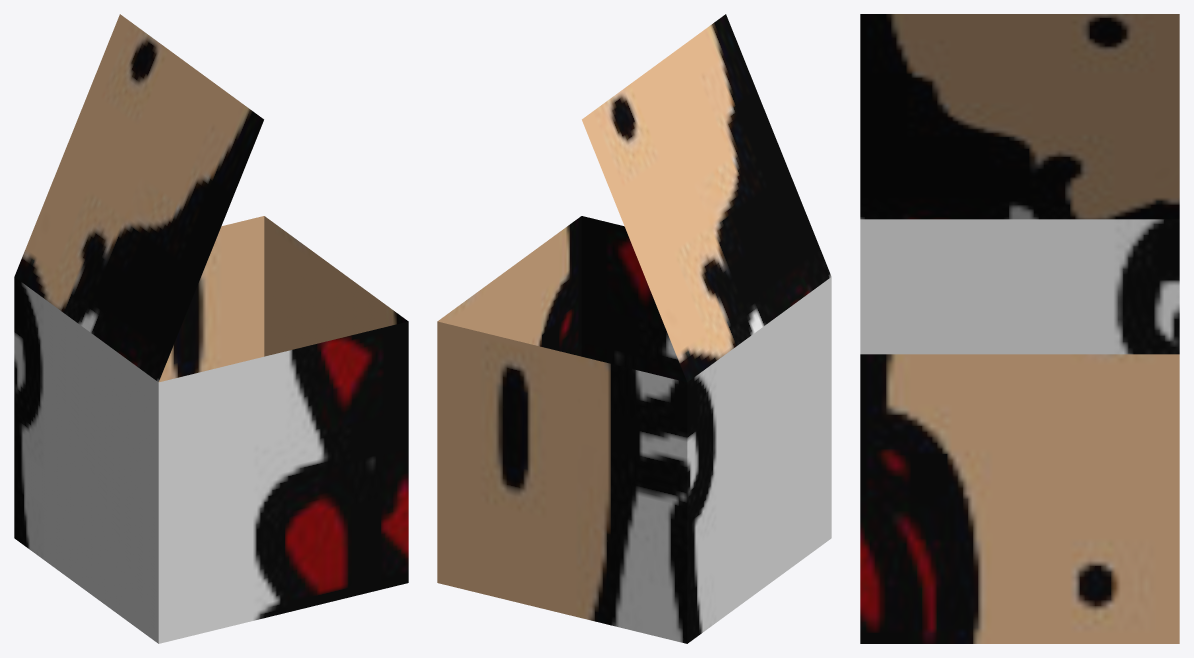
The model's file is sandbox.gltf.
3 renders of one model, left to right at view 1: azimuth 30°, elevation 25°; view 2: azimuth 150°, elevation 25°; view 3: azimuth 270°, elevation 25°, orthographic. The views are drawn at different scales.
Visible parts, largest first — view 1: Cube; view 2: Cube; view 3: Cube.
Part boxes in pixels (box(x1,y1,x2,y2)): Cube: box(14, 14, 408, 643); Cube: box(437, 14, 831, 643); Cube: box(860, 14, 1179, 643).
Size of the model in its own units: 2 by 3.81 by 2.
Materials: 1 (1 with a texture image).
